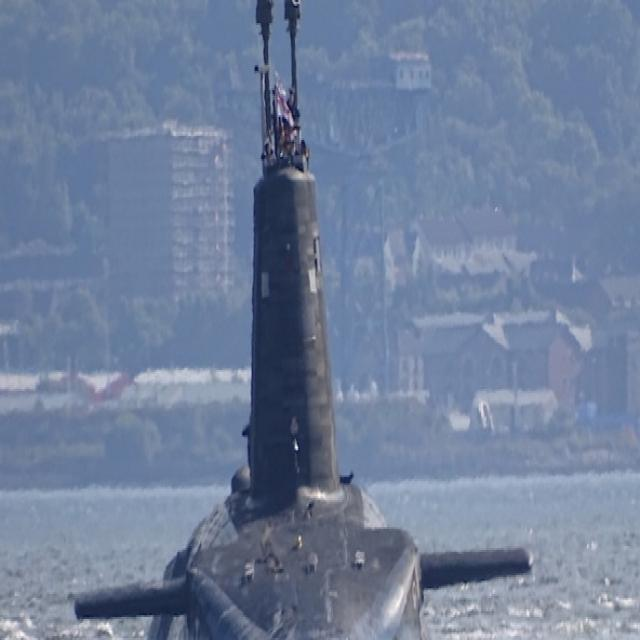submarine: (73, 1, 535, 640)
